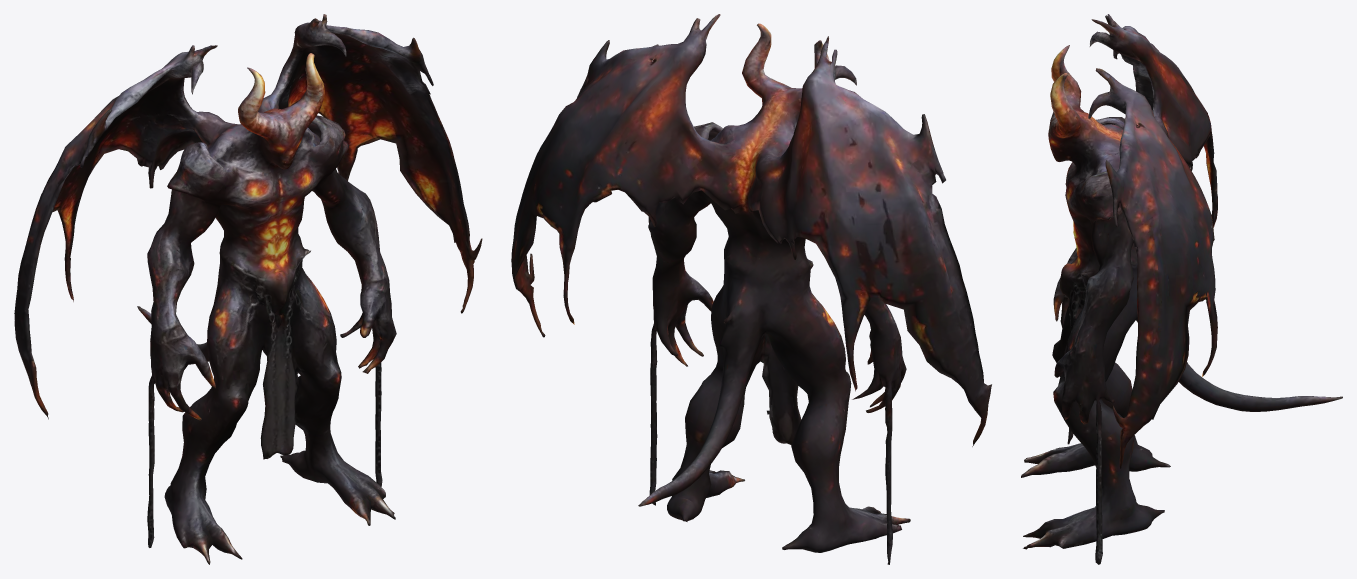
Rendered from under_world_demon.glb.
3 renders of one model, left to right at view 1: azimuth 30°, elevation 25°; view 2: azimuth 150°, elevation 25°; view 3: azimuth 270°, elevation 25°, orthographic. The views are drawn at different scales.
Parts seen in each view (by area): view 1: Object_4; view 2: Object_4; view 3: Object_4.
Boxes of the visible parts, x1,y1,x2,y2 form: Object_4: (14, 14, 482, 564); Object_4: (511, 14, 991, 564); Object_4: (1021, 14, 1342, 564).
Size of the model in its own units: 1.89 by 1.98 by 1.23.
1 material, 1 textured.
